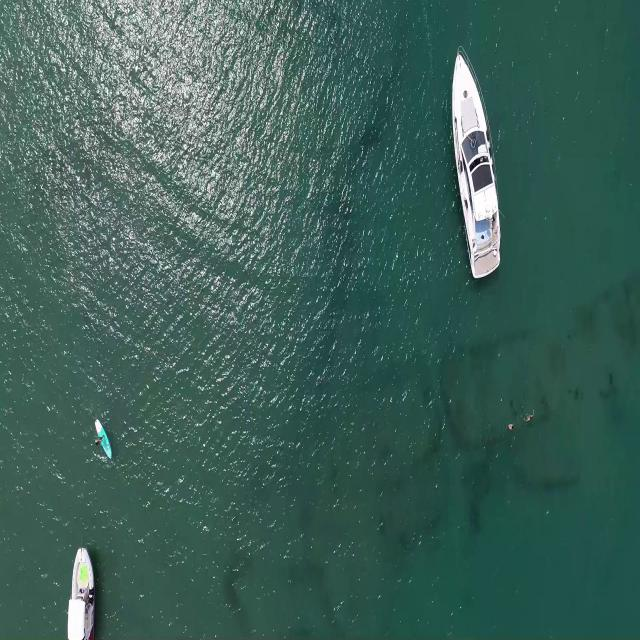boat: (449, 45, 504, 282), (66, 544, 98, 630)
person: (523, 410, 536, 424), (93, 432, 104, 447), (508, 421, 516, 431)
surfboard: (95, 416, 111, 466)
